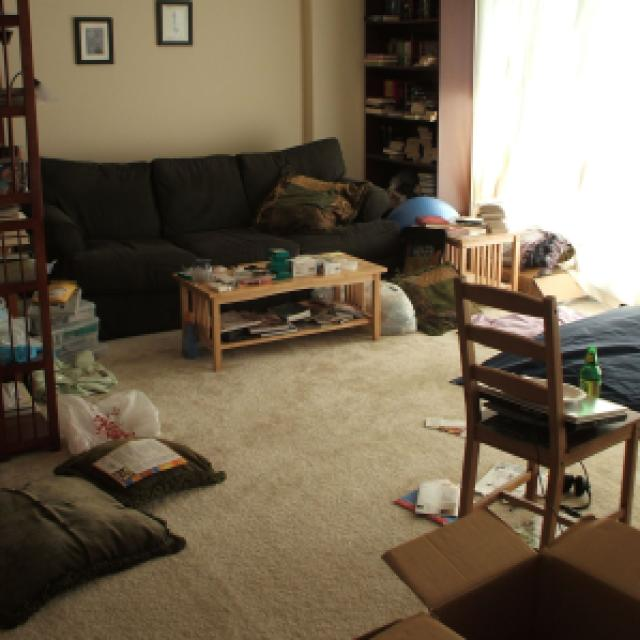mess: (36, 305, 203, 526), (392, 150, 600, 319), (180, 234, 389, 358)
